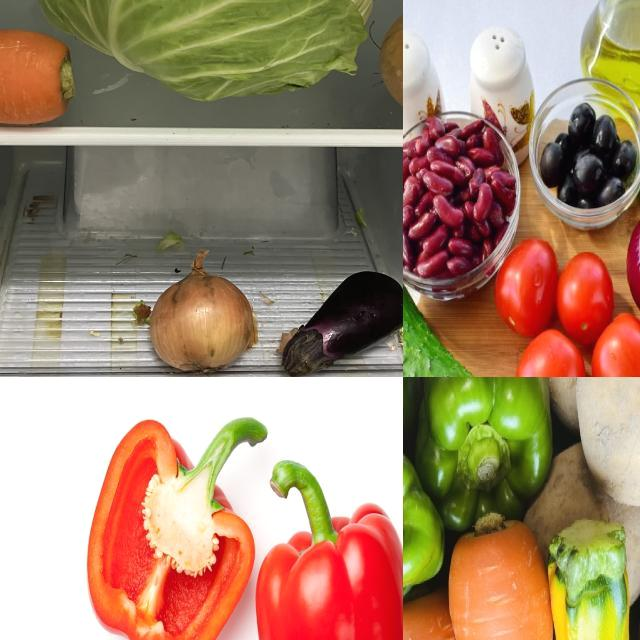bell_pepper: (254, 462, 404, 640)
cabbage: (30, 1, 383, 111)
carrot: (447, 517, 583, 640), (1, 25, 78, 125)
cucumber: (404, 283, 506, 378)
eggplant: (280, 269, 404, 378)
onion: (150, 247, 260, 377)
tomato: (498, 240, 554, 328), (560, 243, 611, 337), (591, 320, 640, 378), (517, 338, 582, 378)
